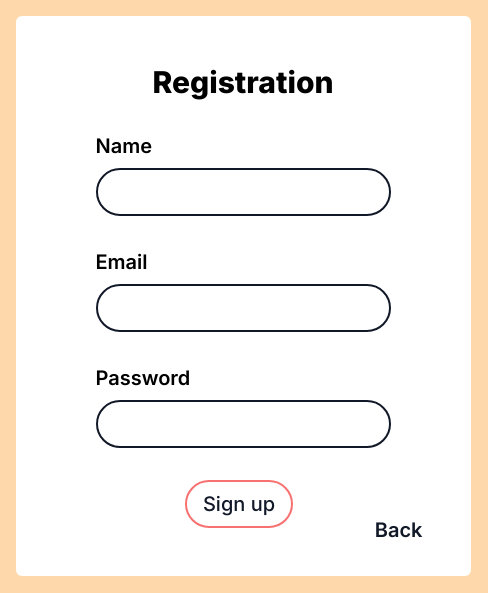
Test: Sneakers test › Registration: Back button
The image size is (488, 593).
Expected: the heading "Registration" is shown, [152,64,334,100]
Click the link with test id "login-link" at (399, 530), box [375,516,423,544]
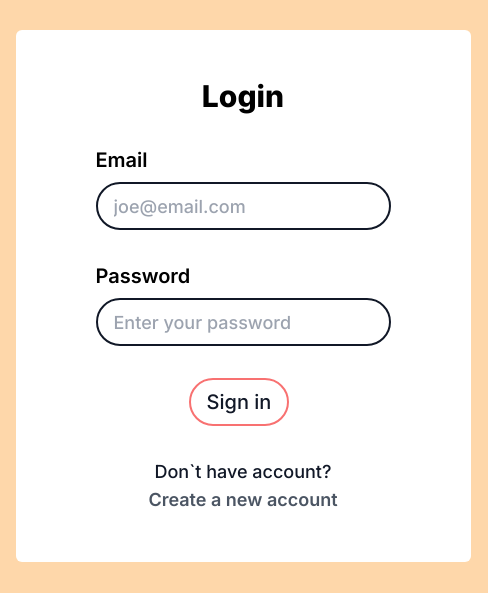
Expected: the heading "Login" is shown, [202,78,284,114]
